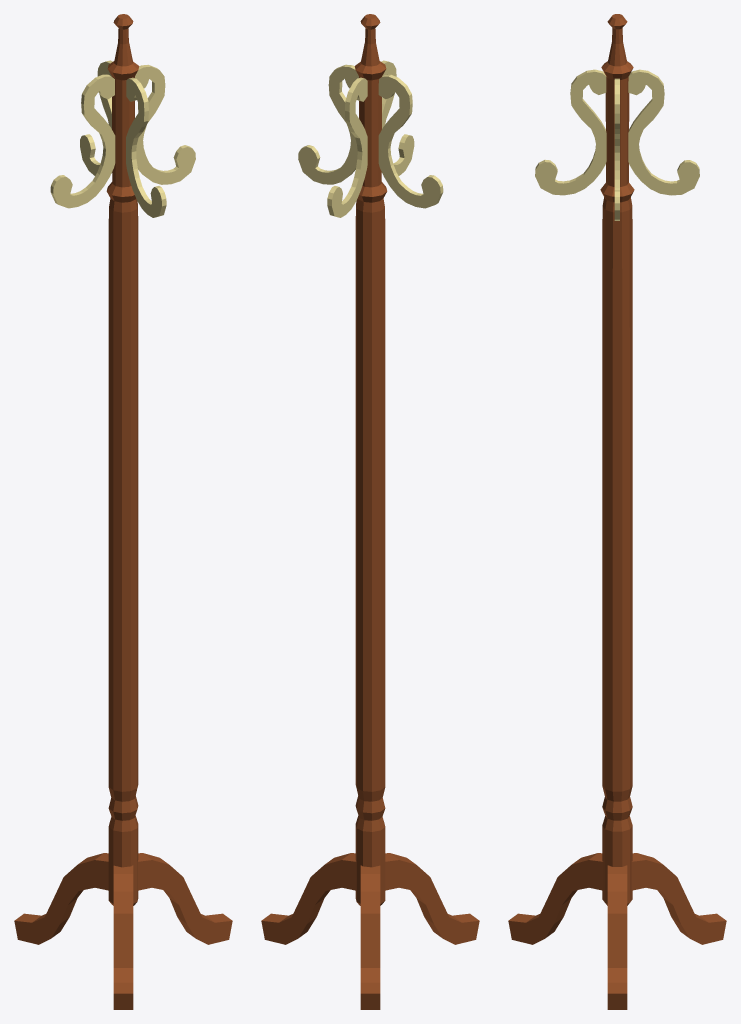
File: hat-stand.fbx
3 views of the same model, side by side, from view 1: azimuth 30°, elevation 25°; view 2: azimuth 150°, elevation 25°; view 3: azimuth 270°, elevation 25° (orthographic).
Parts seen in each view (by area): view 1: stem, foot3, foot1, foot2, hook1, hook3, hook2, hook4; view 2: stem, foot3, foot2, foot1, hook1, hook3, hook4, hook2; view 3: stem, foot1, foot2, hook2, hook4, foot3, hook3.
Part boxes in pixels (left/top/right/bottom): stem: left=106, top=14, right=139, bottom=905; foot3: left=137, top=853, right=232, bottom=944; foot1: left=14, top=853, right=108, bottom=944; foot2: left=113, top=865, right=133, bottom=1009; hook1: left=50, top=74, right=115, bottom=208; hook3: left=135, top=64, right=195, bottom=184; hook2: left=126, top=77, right=166, bottom=217; hook4: left=80, top=60, right=112, bottom=175; stem: left=354, top=14, right=387, bottom=905; foot3: left=261, top=853, right=356, bottom=944; foot2: left=385, top=853, right=479, bottom=944; foot1: left=360, top=865, right=380, bottom=1009; hook1: left=378, top=74, right=443, bottom=208; hook3: left=298, top=64, right=358, bottom=184; hook4: left=327, top=77, right=367, bottom=217; hook2: left=381, top=60, right=414, bottom=175; stem: left=600, top=14, right=634, bottom=905; foot1: left=631, top=853, right=726, bottom=944; foot2: left=508, top=853, right=603, bottom=944; hook2: left=535, top=69, right=606, bottom=195; hook4: left=628, top=69, right=699, bottom=195; foot3: left=607, top=865, right=627, bottom=1009; hook3: left=614, top=78, right=619, bottom=220.
Size of the model in its own units: 34.89 by 179 by 37.51.
